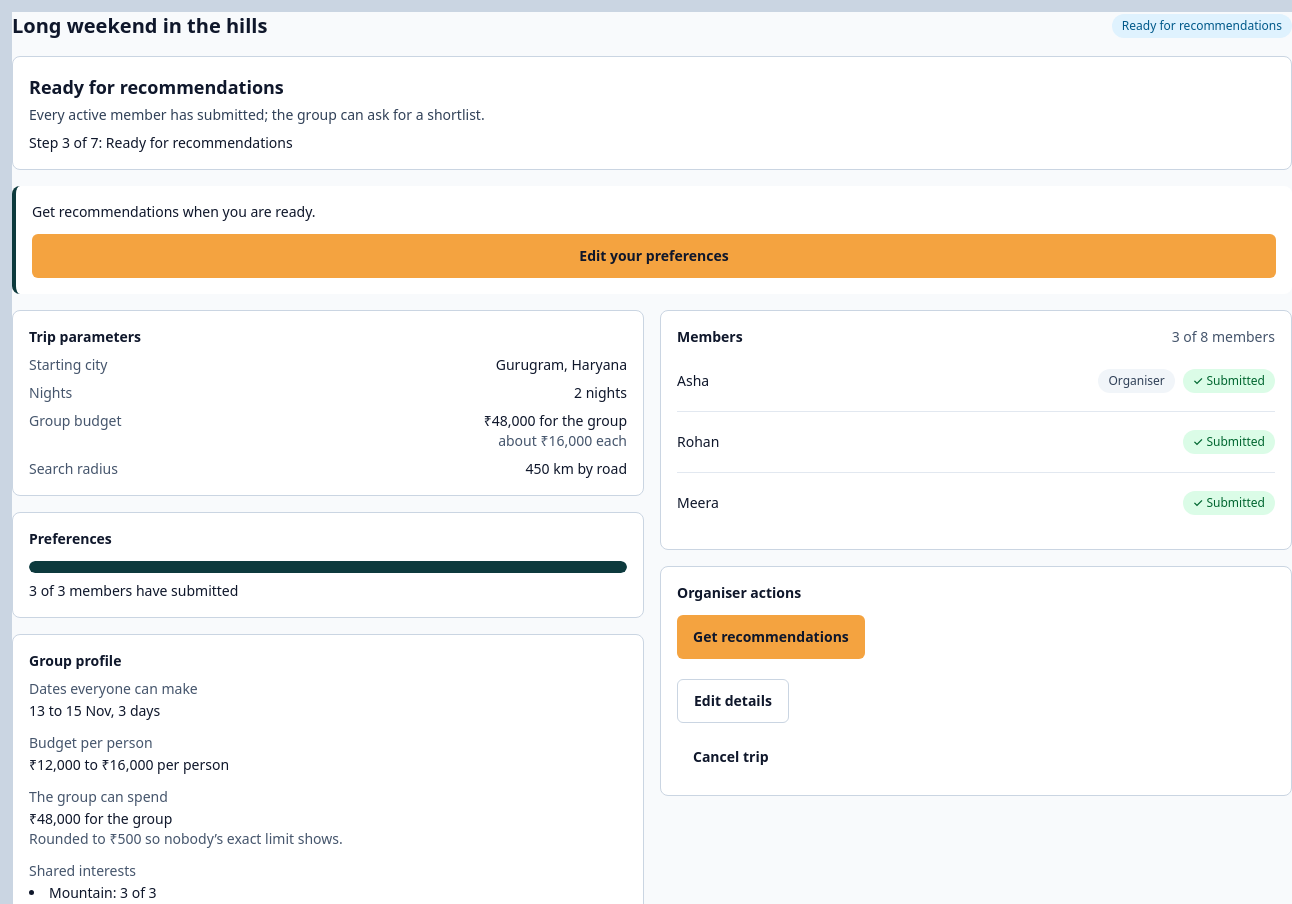
Test: dashboard: recommendations › a 409 shows the server message as sent
Click the button "Get recommendations" at (771, 637), box [677,615,865,659]
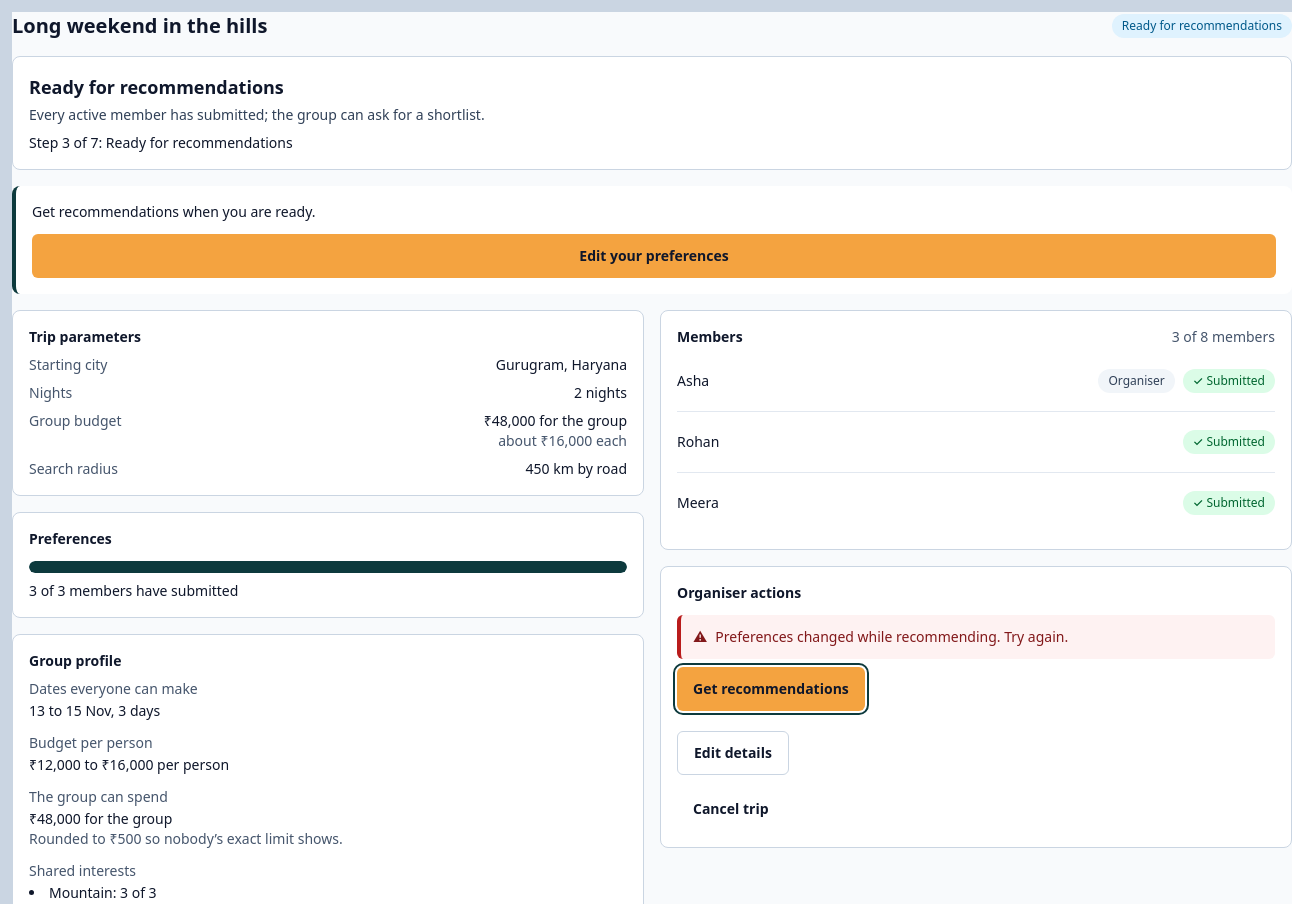
Now the text "Preferences changed while recommending. Try again." is shown, box [715,627,1068,647]
